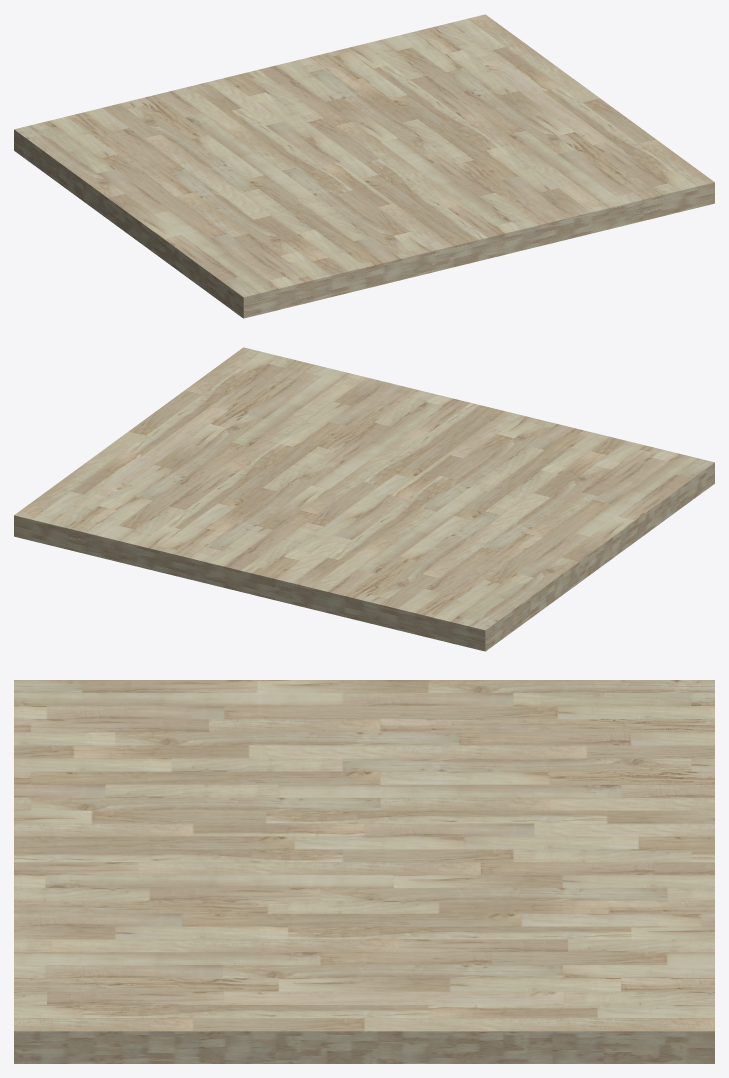
The model's file is wall.fbx.
3 renders of one model, top to bottom at view 1: azimuth 30°, elevation 25°; view 2: azimuth 150°, elevation 25°; view 3: azimuth 270°, elevation 25°, orthographic. The views are drawn at different scales.
Parts seen in each view (by area): view 1: floor; view 2: floor; view 3: floor.
Boxes of the visible parts, left/top/right/bottom form: floor: left=14, top=14, right=714, bottom=318; floor: left=14, top=347, right=714, bottom=651; floor: left=14, top=680, right=714, bottom=1063.
Size of the model in its own units: 51 by 2.2 by 42.99.
Materials: 1 (1 with a texture image).
